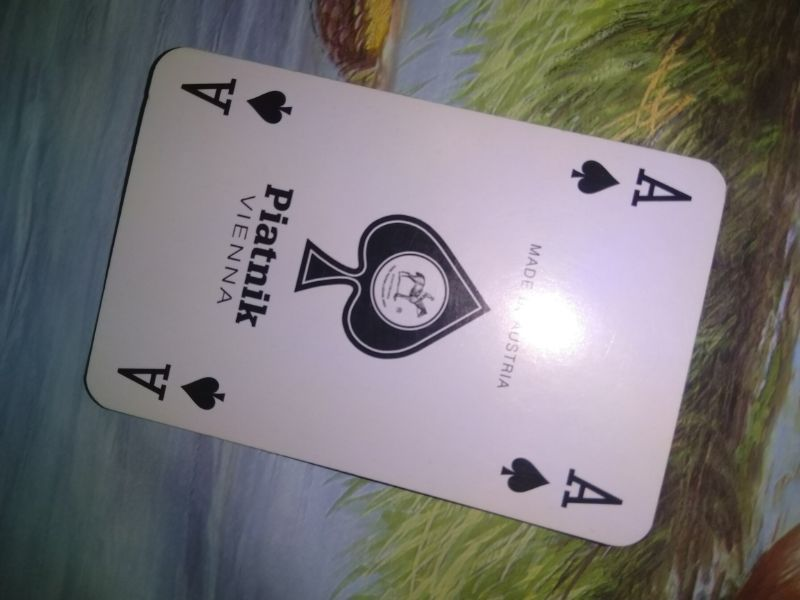As: (495, 451, 627, 515), (169, 69, 301, 131), (564, 154, 696, 213), (111, 355, 241, 414)
